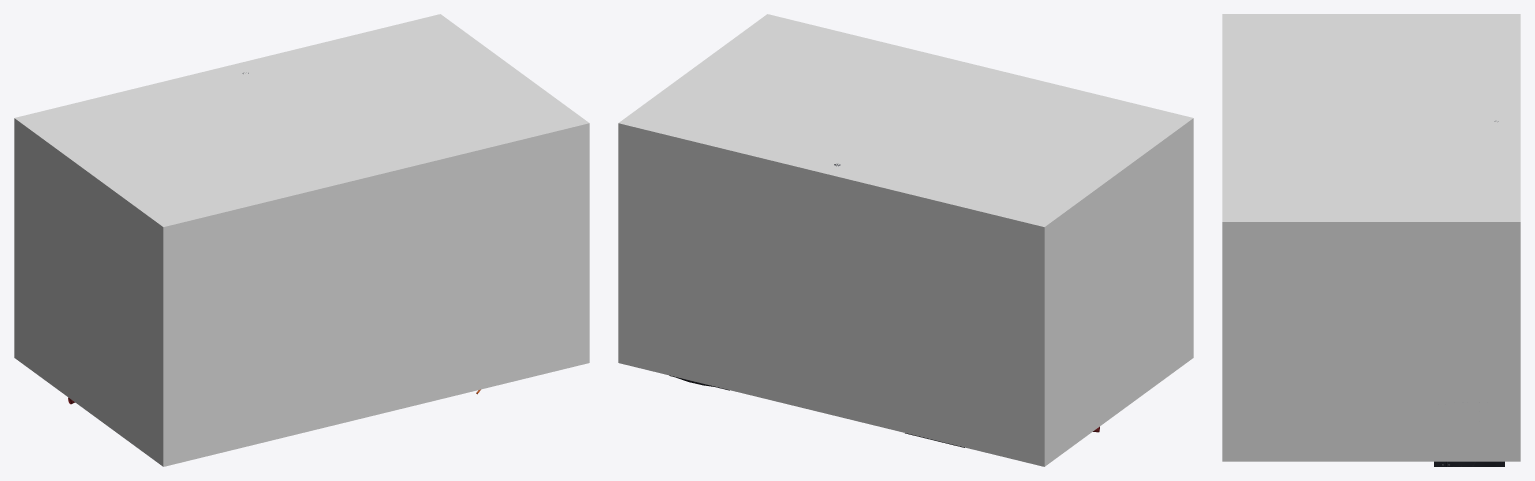
The model's file is Furn_Workstation_Lived_B.gltf.
3 views of the same model, side by side, from view 1: azimuth 30°, elevation 25°; view 2: azimuth 150°, elevation 25°; view 3: azimuth 270°, elevation 25° (orthographic).
Visible parts, largest first — view 1: Furn_Workstation_Lived_B_COL; view 2: Furn_Workstation_Lived_B_COL; view 3: Furn_Workstation_Lived_B_COL, Furn_Workstation_Lived_B.
Boxes of the visible parts, x1=… form: Furn_Workstation_Lived_B_COL: x1=14, y1=14, x2=589, y2=466; Furn_Workstation_Lived_B_COL: x1=618, y1=14, x2=1193, y2=466; Furn_Workstation_Lived_B_COL: x1=1222, y1=14, x2=1520, y2=461; Furn_Workstation_Lived_B: x1=1434, y1=121, x2=1504, y2=466.
Size of the model in its own units: 3.12 by 1.73 by 1.89.
20 materials, 6 textured.
